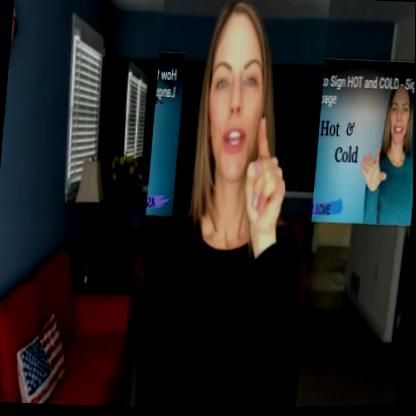NiceToMeetYou: (130, 0, 330, 413)
